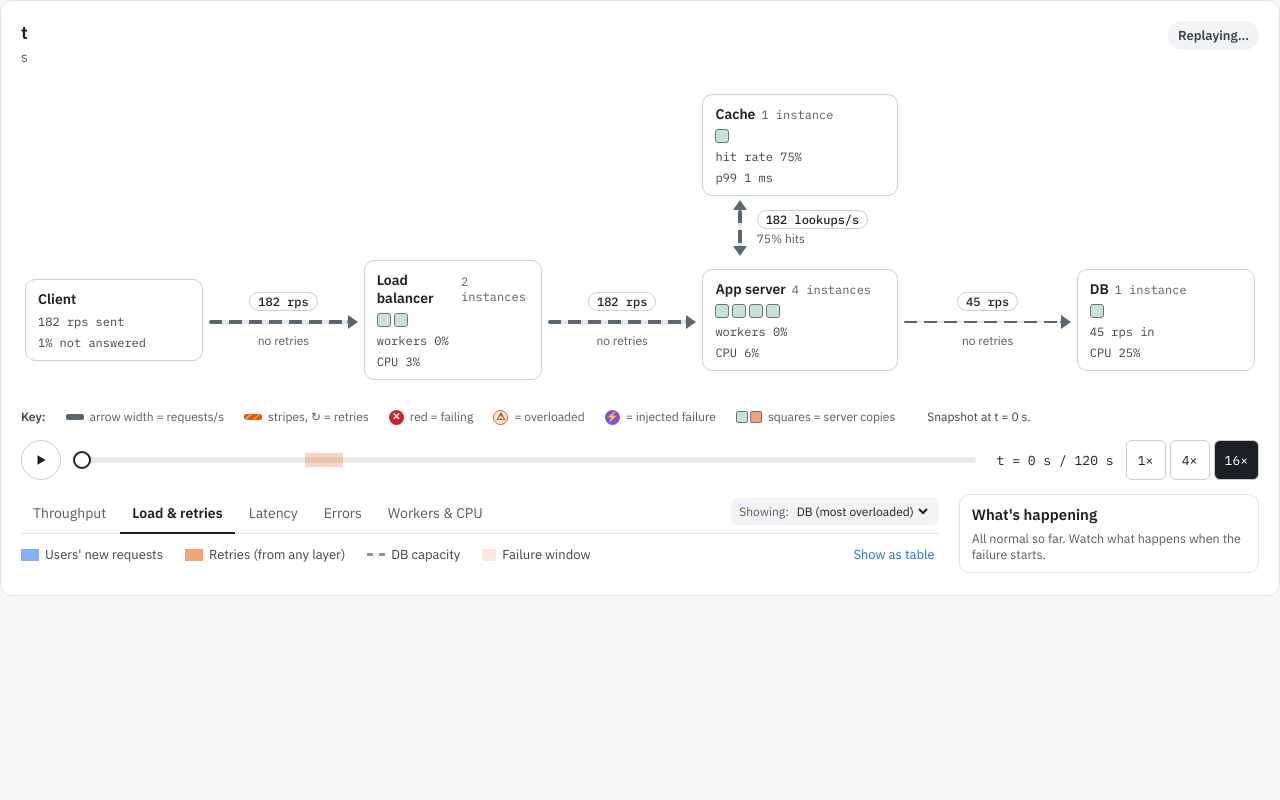
RunPlayer › moves the topology snapshot with the playback position
Set the slider named "Playback position" to "60000". click: (640, 460)
box: [21,440,1259,480]
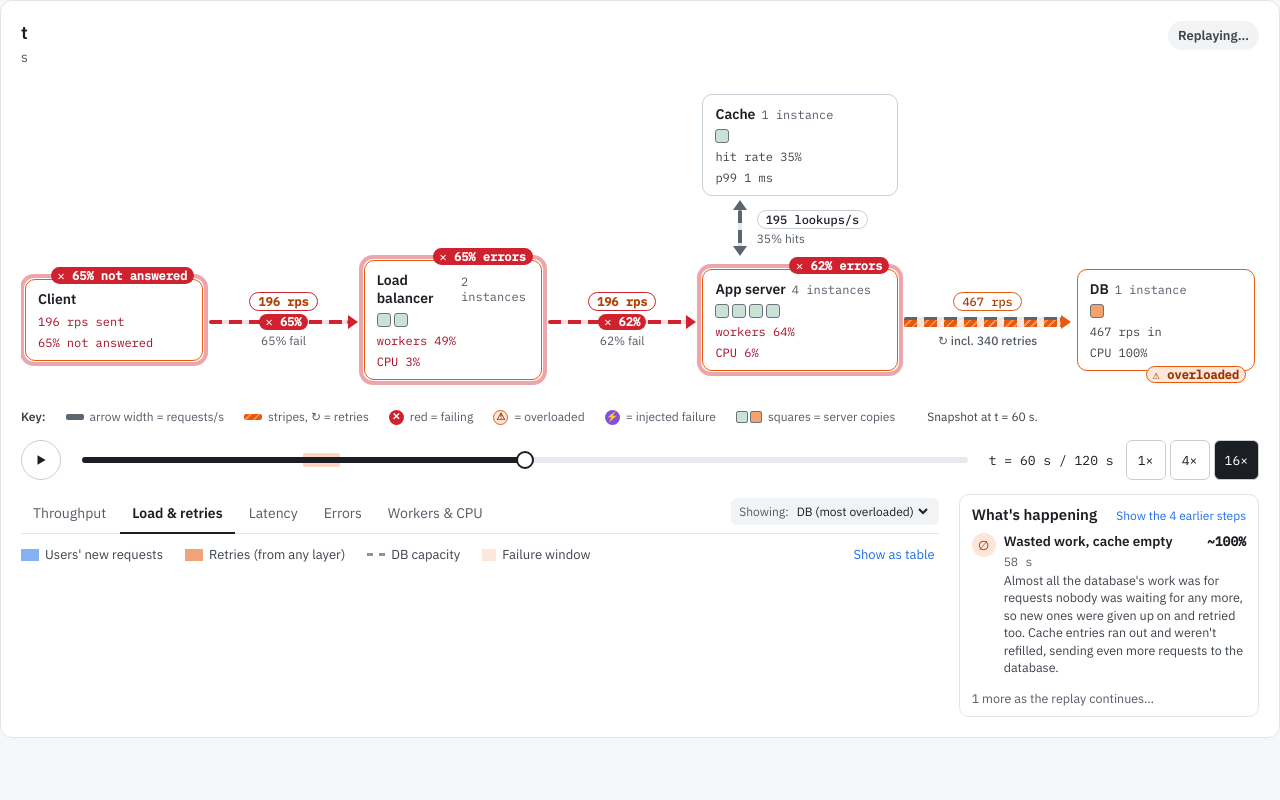
Check: the text "Snapshot at t = 60 s." is shown, box [927,408,1038,426]
